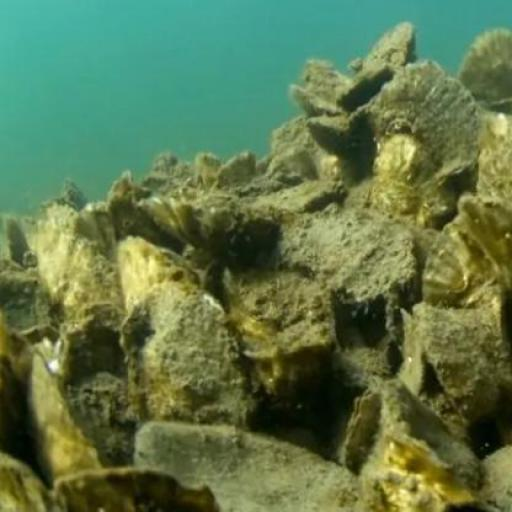Oyster-Closed: (128, 285, 259, 425), (376, 60, 478, 174), (280, 224, 407, 303), (145, 204, 279, 264), (54, 473, 218, 512), (424, 229, 498, 307), (454, 29, 512, 110), (458, 202, 512, 288), (116, 244, 186, 300)
